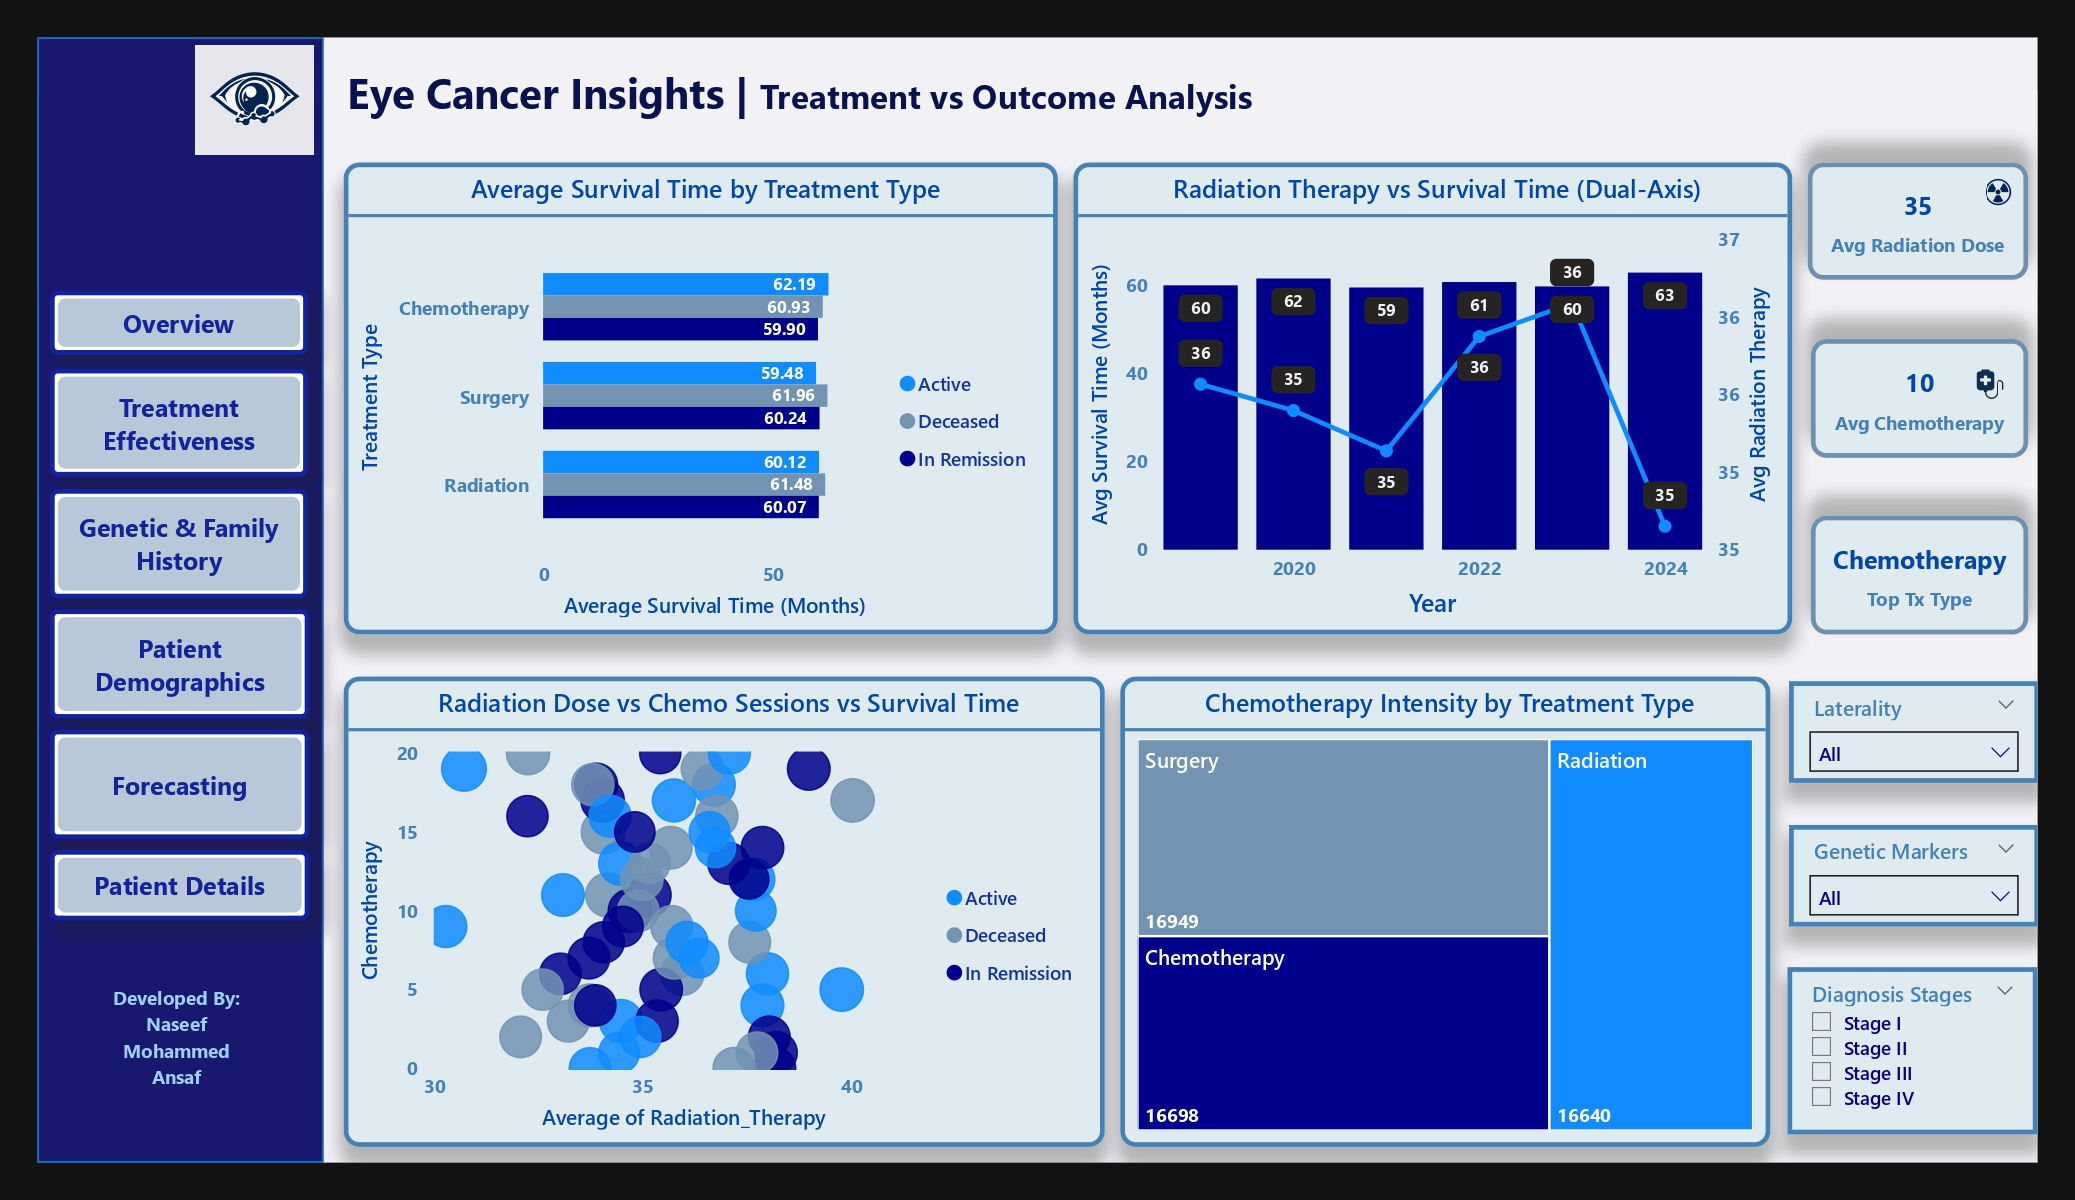

Layout of this report page (visuals, bound fields, positions):
{"tool":"powerbi","page":{"name":"Treatment Effectiveness","canvas":[1280,720],"ordinal":1},"visuals":[{"type":"shape","box":[0,0,182.8,720.2],"z":0},{"type":"textbox","box":[182.8,12.3,609.8,47.9],"z":1000},{"type":"card","fields":{"Values":["Avg(Eye cancer patients dataset_cleaned.Radiation_Therapy)"]},"box":[1132.5,79.8,141.1,74.8],"z":1000,"group":"g1"},{"type":"image","box":[96.5,0,85.9,80],"z":2000},{"type":"card","fields":{"Values":["Avg(Eye cancer patients dataset_cleaned.Chemotherapy)"]},"box":[1135,192.6,138.7,76.1],"z":2000,"group":"g2"},{"type":"card","fields":{"Values":["Min(Eye cancer patients dataset_cleaned.Treatment_Type)"]},"box":[1135,305.5,138.7,76.1],"z":3000},{"type":"clusteredBarChart","title":"Average Survival Time by Treatment Type","fields":{"Category":["Eye cancer patients dataset_cleaned.Treatment_Type"],"Y":["Avg(Eye cancer patients dataset_cleaned.Survival_Time_Months)"],"Series":["Eye cancer patients dataset_cleaned.Outcome_Status"]},"box":[196.3,79.8,456.4,301.8],"z":4000},{"type":"lineClusteredColumnComboChart","title":"Radiation Therapy vs Survival Time (Dual-Axis)","fields":{"Y":["Avg(Eye cancer patients dataset_cleaned.Survival_Time_Months)"],"Y2":["Avg(Eye cancer patients dataset_cleaned.Radiation_Therapy)"],"Category":["Eye cancer patients dataset_cleaned.Date_of_Diagnosis.Variation.Date Hierarchy.Year"]},"box":[662.6,79.8,460.1,301.8],"z":5000},{"type":"treemap","title":"Chemotherapy Intensity by Treatment Type","fields":{"Group":["Eye cancer patients dataset_cleaned.Treatment_Type"],"Values":["Sum(Eye cancer patients dataset_cleaned.Chemotherapy)"]},"box":[693.3,408.6,416,301.8],"z":6000},{"type":"image","box":[1235.9,79.8,37.7,38],"z":6001,"group":"g1"},{"type":"image","box":[1226.3,200,47.4,44],"z":6003,"group":"g2"},{"type":"scatterChart","title":"Radiation Dose vs Chemo Sessions vs Survival Time","fields":{"X":["Avg(Eye cancer patients dataset_cleaned.Radiation_Therapy)"],"Y":["Eye cancer patients dataset_cleaned.Chemotherapy"],"Size":["Avg(Eye cancer patients dataset_cleaned.Survival_Time_Months)"],"Series":["Eye cancer patients dataset_cleaned.Outcome_Status"]},"box":[196.3,408.6,487.1,301.8],"z":7000},{"type":"group","id":"g1","title":"Group 1","box":[1132.5,79.8,141.1,74.8],"z":9000},{"type":"group","id":"g2","title":"Group 2","box":[1135,192.6,138.7,76.1],"z":10000},{"type":"slicer","fields":{"Values":["Eye cancer patients dataset_cleaned.Laterality"]},"box":[1120.6,412.3,160,64.7],"z":11000},{"type":"slicer","fields":{"Values":["Eye cancer patients dataset_cleaned.Stage_at_Diagnosis"]},"box":[1120.5,595.3,159.5,106.7],"z":12000},{"type":"slicer","fields":{"Values":["Eye cancer patients dataset_cleaned.Genetic_Markers"]},"box":[1120.6,504.2,160,64.7],"z":13000},{"type":"actionButton","box":[7.6,162.5,165.6,40.5],"z":13001},{"type":"actionButton","box":[7.6,211.5,165.6,69.9],"z":13002},{"type":"actionButton","box":[7.6,288.9,165.6,69.9],"z":13003},{"type":"actionButton","box":[8.4,365.8,165.6,69.9],"z":13004},{"type":"actionButton","box":[8.4,443.1,165.6,69.9],"z":13005},{"type":"actionButton","box":[8.4,520.4,165.6,44.2],"z":13006},{"type":"textbox","box":[38,600,101.8,85.9],"z":13007}]}

Visuals, with their boxes on the page's 1280x720 design canvas (x1, y1, x2, y2). These are canvas units, not pixel positions in the 2075x1200 screenshot, which may show the page scaled, cropped or inside an application window:
shape: locate(0, 0, 183, 720)
textbox: locate(183, 12, 793, 60)
card - Avg(Eye cancer patients dataset_cleaned.Radiation_Therapy): locate(1132, 80, 1274, 155)
image: locate(96, 0, 182, 80)
card - Avg(Eye cancer patients dataset_cleaned.Chemotherapy): locate(1135, 193, 1274, 269)
card - Min(Eye cancer patients dataset_cleaned.Treatment_Type): locate(1135, 306, 1274, 382)
"Average Survival Time by Treatment Type" clusteredBarChart: locate(196, 80, 653, 382)
"Radiation Therapy vs Survival Time (Dual-Axis)" lineClusteredColumnComboChart: locate(663, 80, 1123, 382)
"Chemotherapy Intensity by Treatment Type" treemap: locate(693, 409, 1109, 710)
image: locate(1236, 80, 1274, 118)
image: locate(1226, 200, 1274, 244)
"Radiation Dose vs Chemo Sessions vs Survival Time" scatterChart: locate(196, 409, 683, 710)
"Group 1" group: locate(1132, 80, 1274, 155)
"Group 2" group: locate(1135, 193, 1274, 269)
slicer - Eye cancer patients dataset_cleaned.Laterality: locate(1121, 412, 1281, 477)
slicer - Eye cancer patients dataset_cleaned.Stage_at_Diagnosis: locate(1120, 595, 1280, 702)
slicer - Eye cancer patients dataset_cleaned.Genetic_Markers: locate(1121, 504, 1281, 569)
actionButton: locate(8, 162, 173, 203)
actionButton: locate(8, 212, 173, 281)
actionButton: locate(8, 289, 173, 359)
actionButton: locate(8, 366, 174, 436)
actionButton: locate(8, 443, 174, 513)
actionButton: locate(8, 520, 174, 565)
textbox: locate(38, 600, 140, 686)
